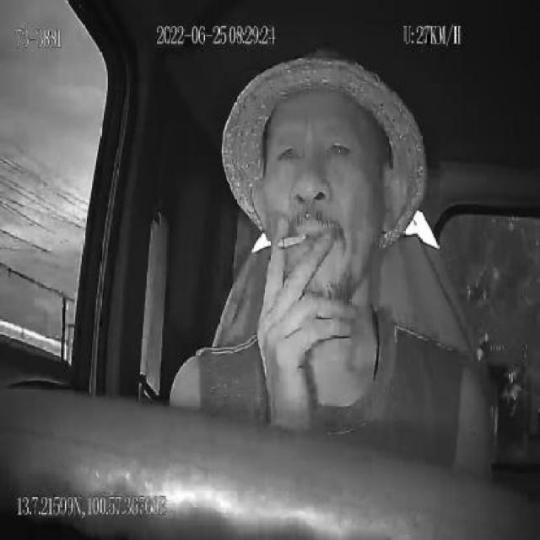smoking: (276, 229, 308, 250)
